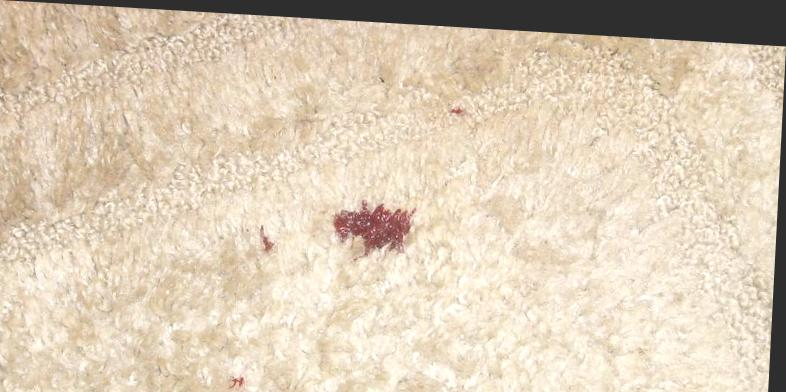Fire: (335, 194, 419, 256), (261, 221, 278, 247), (232, 373, 248, 386), (451, 101, 465, 109)
